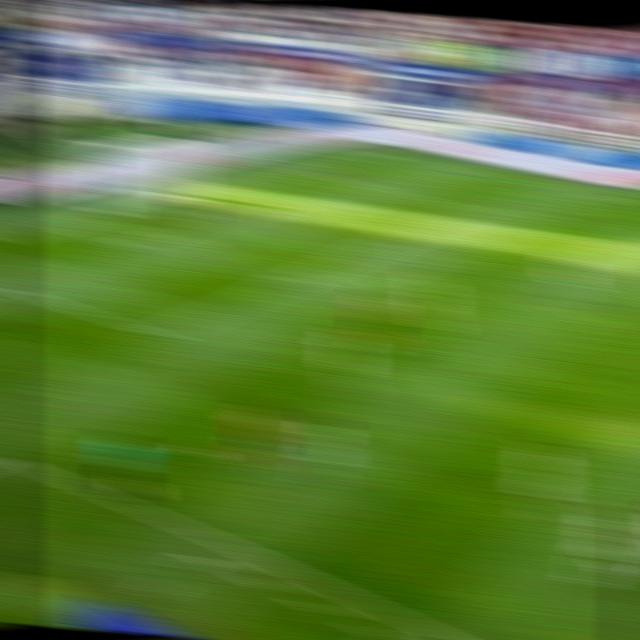bigarea_bottom_inner: (138, 321, 181, 347)
bigarea_top_inner: (456, 197, 495, 218)
bigarea_top_outter: (285, 160, 325, 179)
bottom_arc_area_intersection: (279, 269, 318, 290)
corner: (356, 141, 397, 160)
smallarea_bottom_inner: (108, 234, 149, 256)
smallarea_bottom_outter: (42, 214, 83, 237)
smallarea_top_inner: (262, 190, 303, 213)
smallarea_top_outter: (210, 177, 250, 196)
top_arc_area_intersection: (384, 224, 428, 250)
